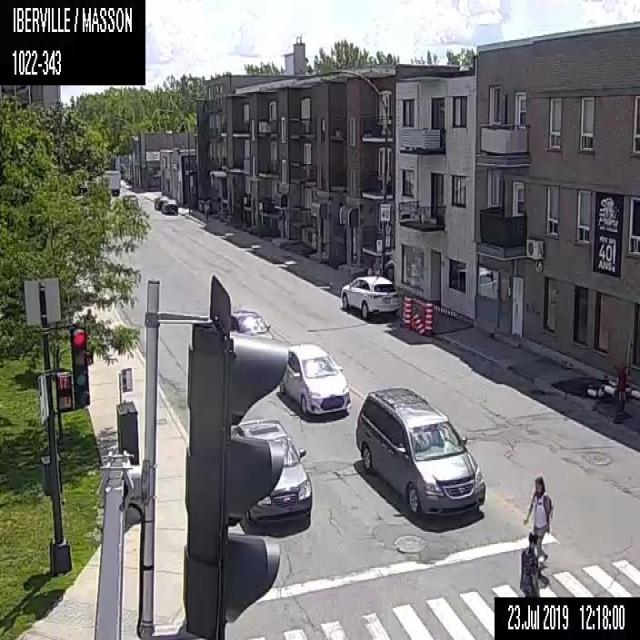construction: (551, 358, 631, 414), (401, 292, 412, 326), (424, 301, 434, 335), (412, 309, 423, 335)
pedestrian: (523, 475, 552, 563), (518, 530, 544, 596)
vehicle: (354, 383, 486, 516), (234, 414, 312, 522), (279, 340, 352, 416), (339, 272, 399, 319), (230, 308, 274, 339), (101, 169, 120, 195), (160, 198, 178, 215), (154, 195, 168, 209)
